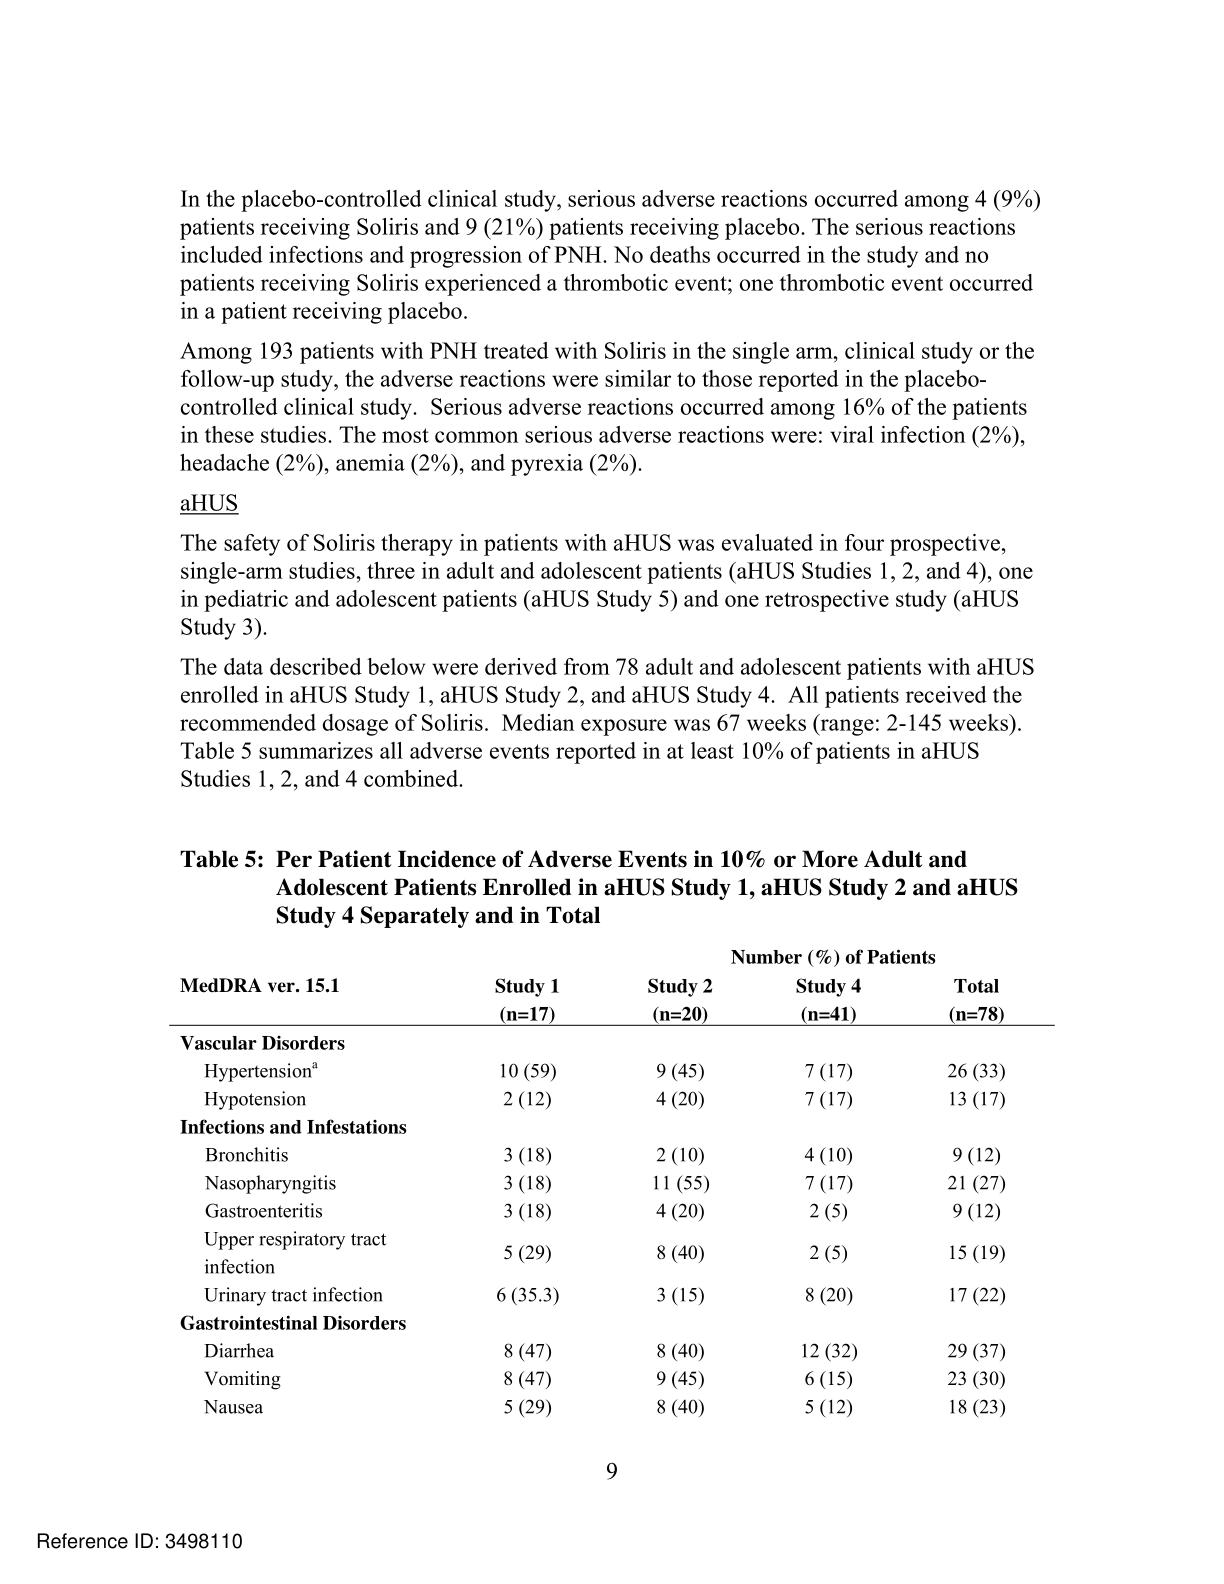partial_lined_merged_cells: (167, 944, 1054, 1419)
